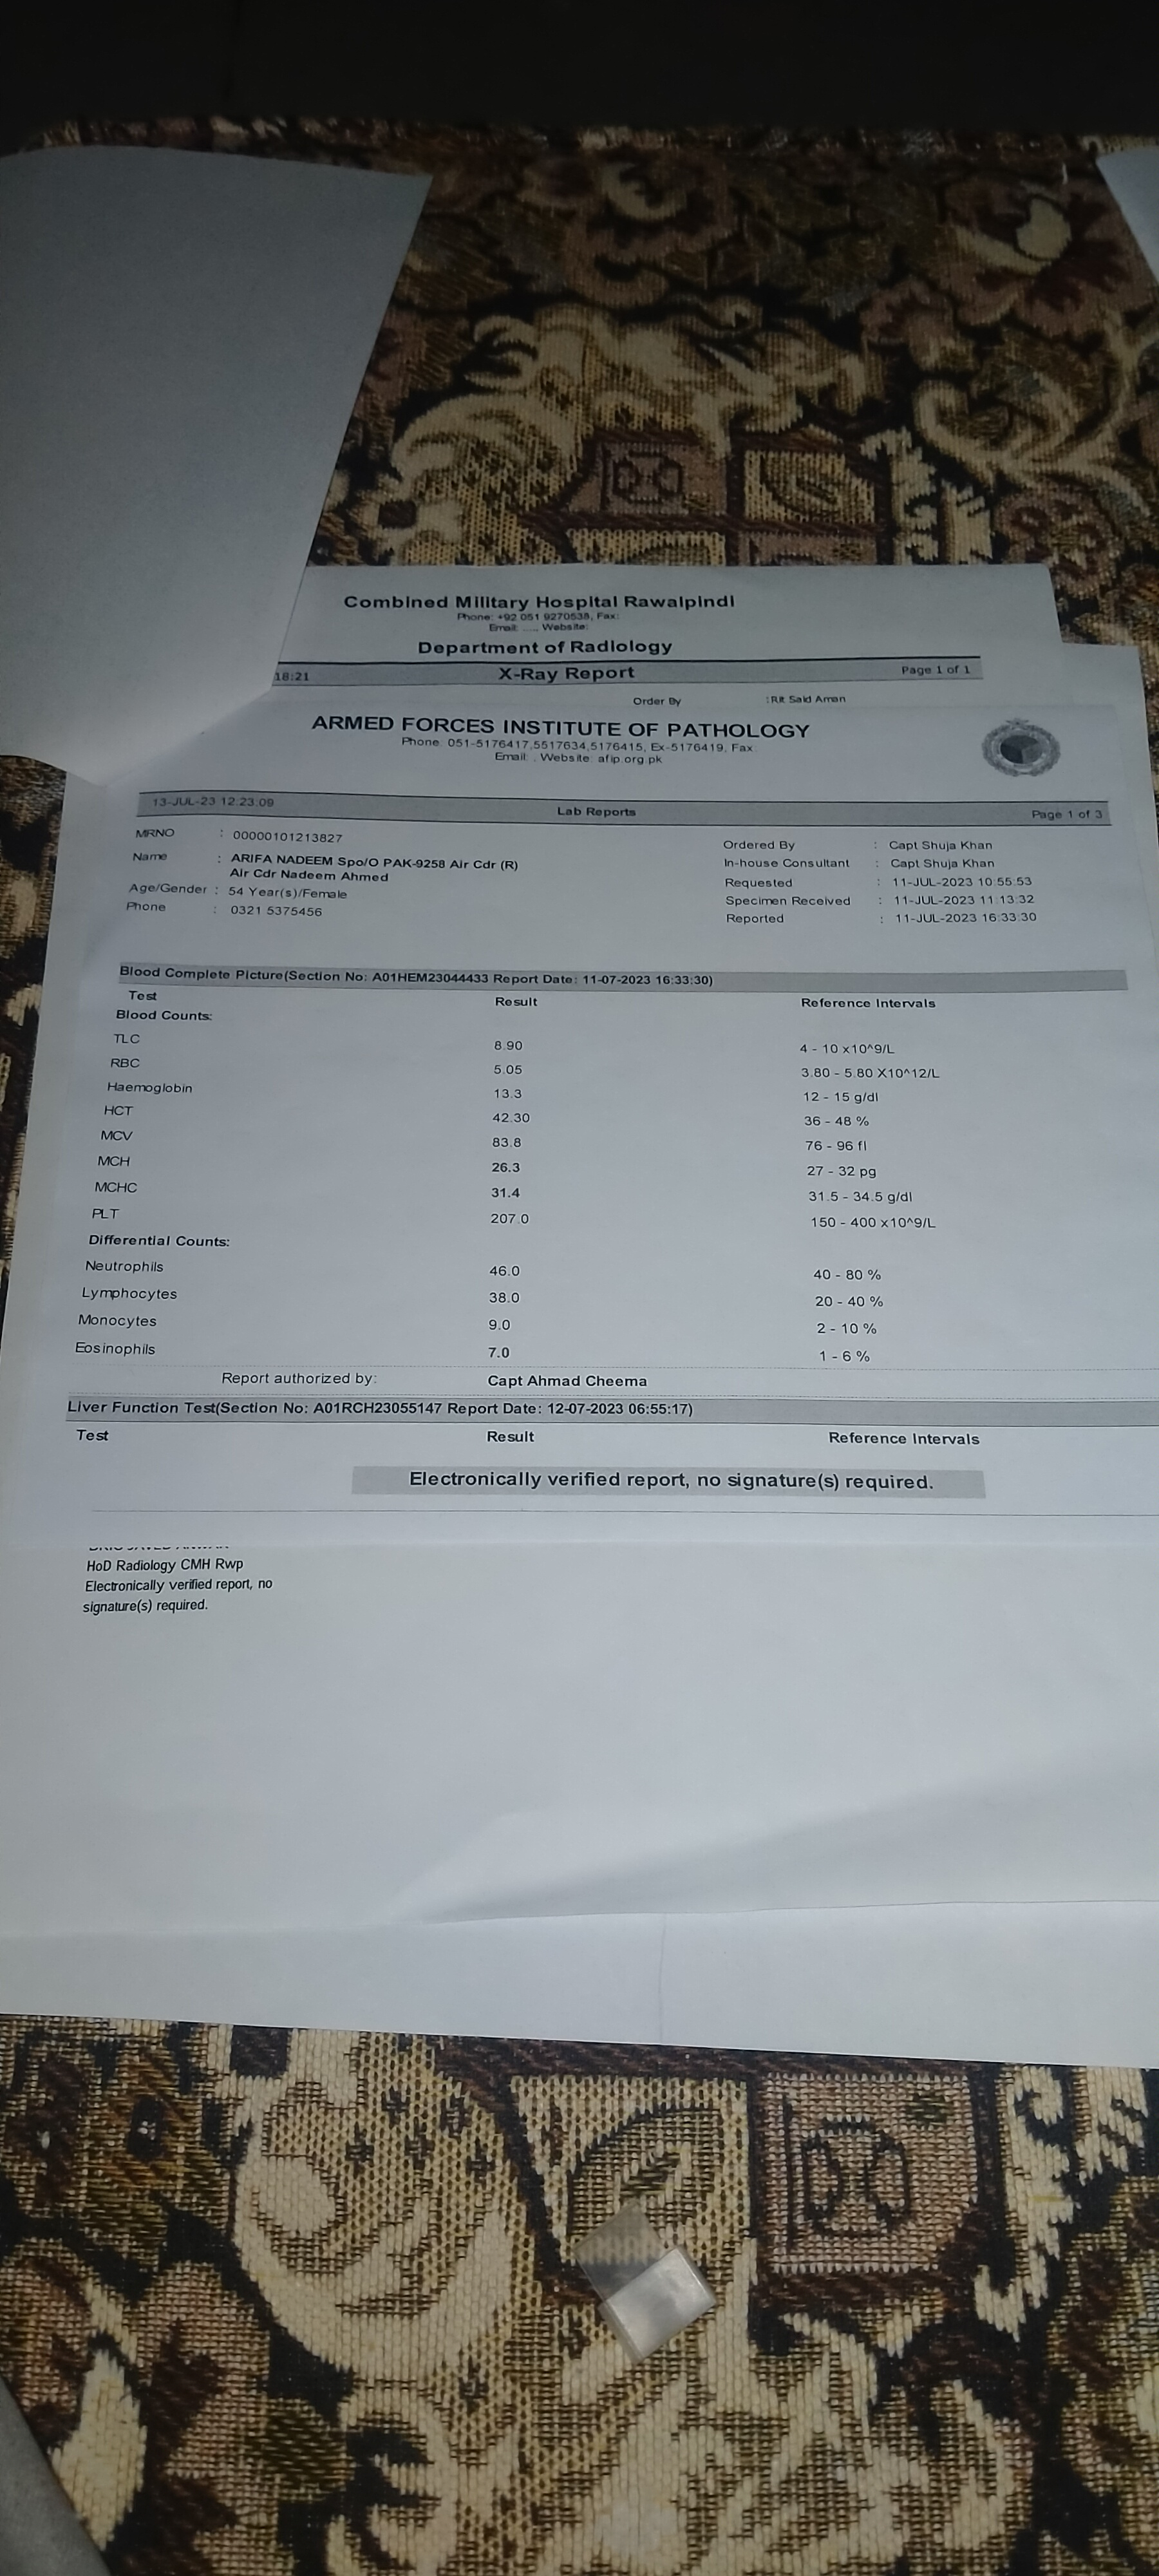report: (57, 948, 1159, 1531)
